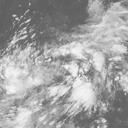cyclone: (35, 44, 96, 100)
